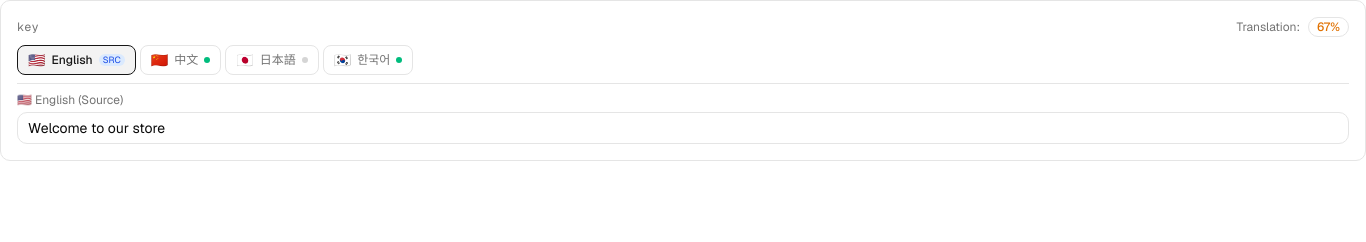
Test case: I18nFormField › shows source reference when editing non-source
The width and height of the screenshot is (1366, 242).
Note: Click on zh-CN tab
Step 1. Click the text "中文" → (186, 60), box [174,52,198,68]
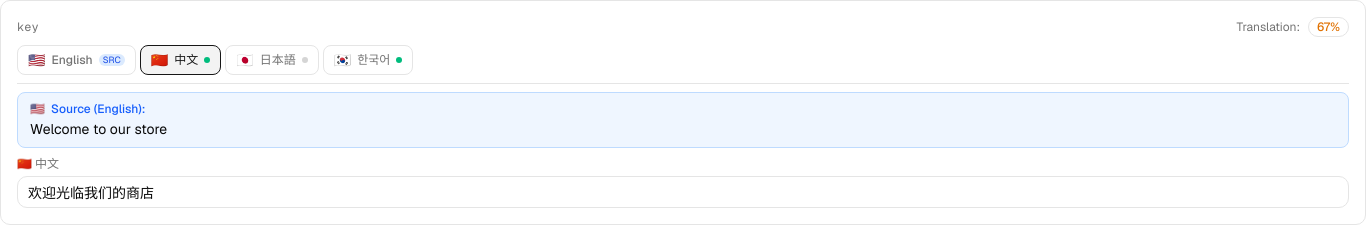
Now the element showing "🇺🇸 Source (English): Welcome to our store" is shown, box [17,92,1349,148]
Now the text "Source (English):" is shown, box [51,101,146,117]
